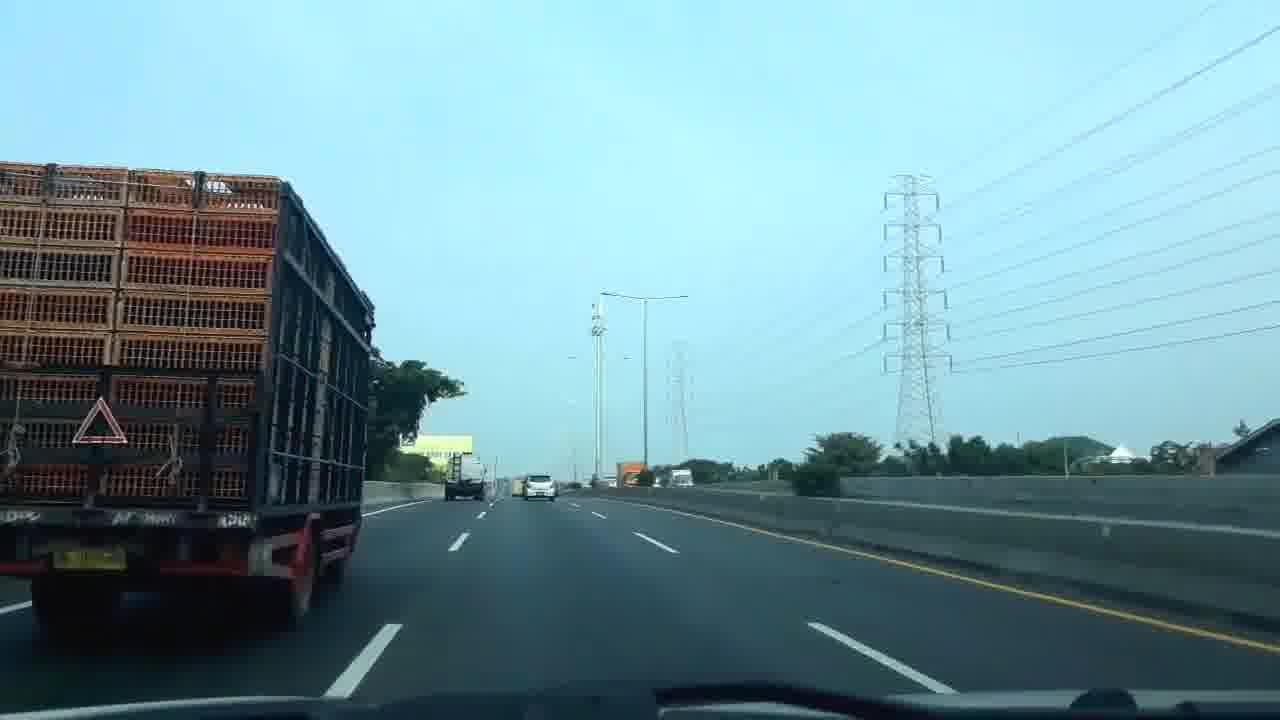plate_positive: (51, 546, 127, 570)
